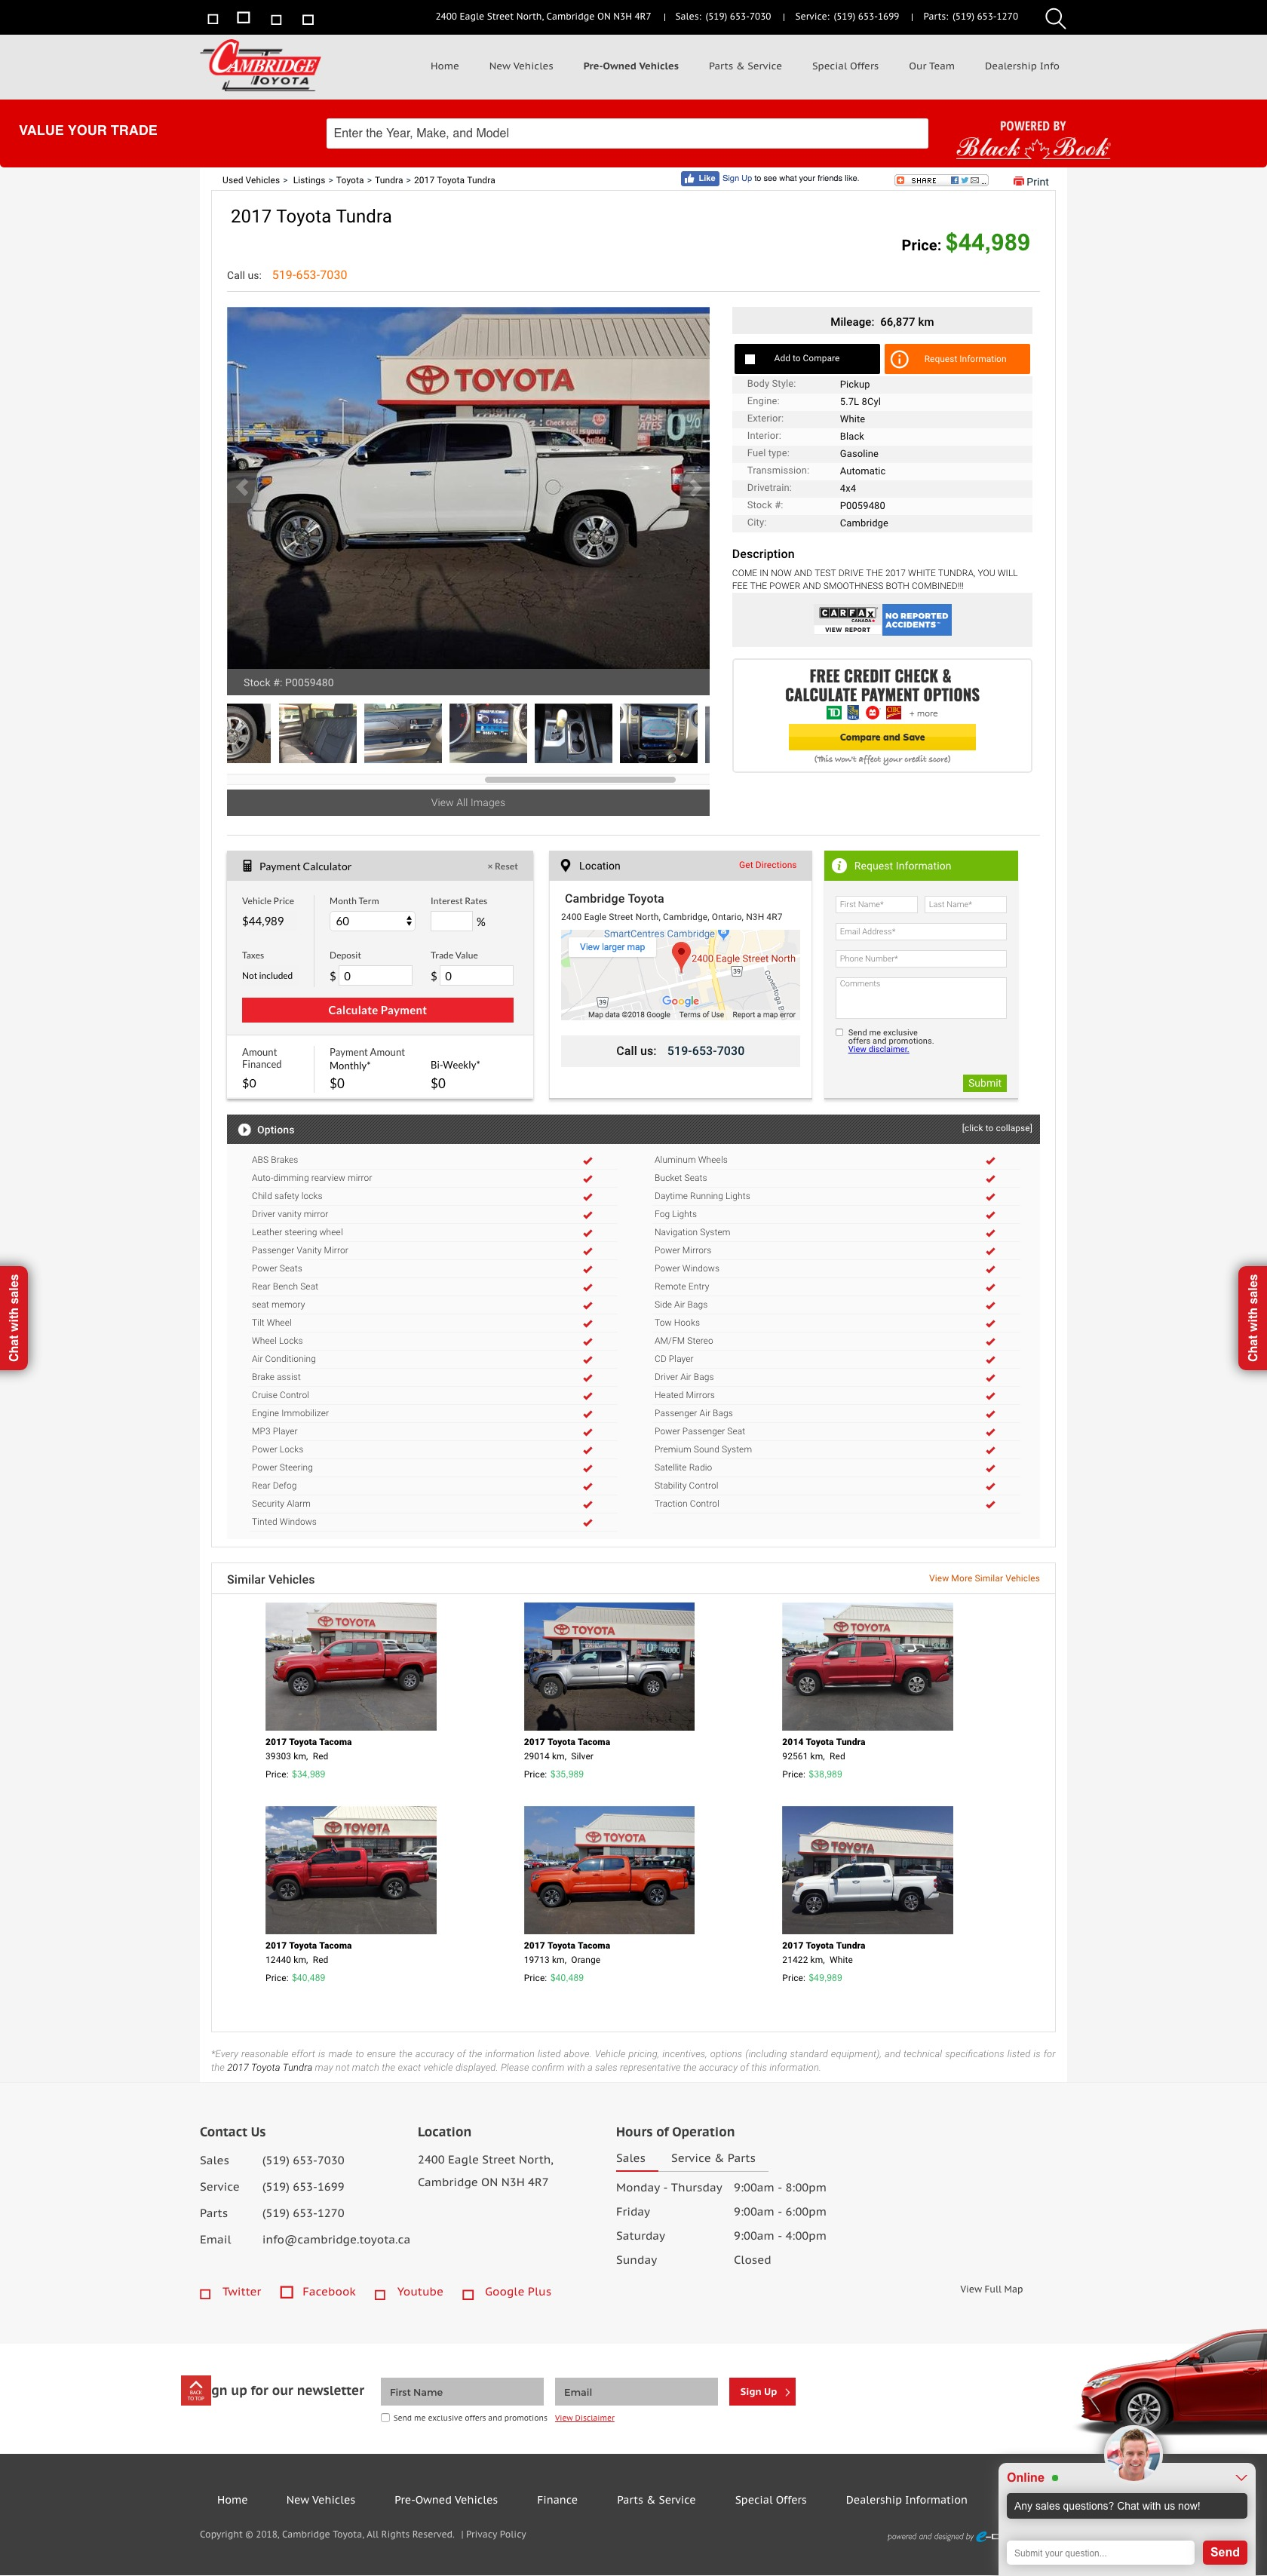car: (679, 471, 712, 511)
